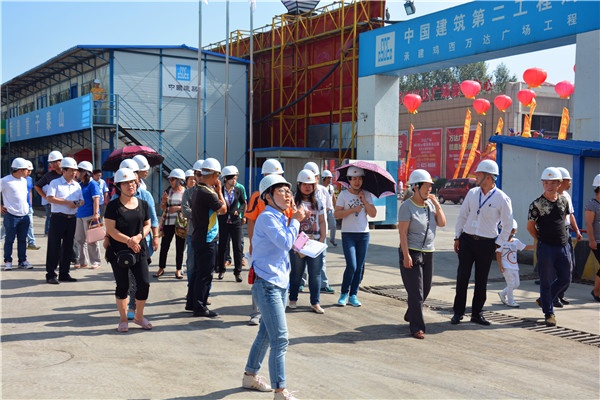none: (92, 167, 102, 182)
white: (259, 173, 292, 210), (407, 167, 433, 199), (473, 156, 499, 188), (199, 157, 221, 186), (539, 167, 562, 193), (115, 169, 136, 195), (296, 168, 316, 195), (166, 167, 185, 189), (346, 166, 364, 189), (10, 157, 28, 179), (133, 155, 149, 179), (60, 157, 77, 179), (76, 160, 93, 182), (221, 163, 237, 185), (47, 150, 63, 170), (559, 166, 571, 191), (192, 158, 204, 182), (590, 171, 600, 199), (183, 168, 196, 187), (320, 168, 332, 183)
